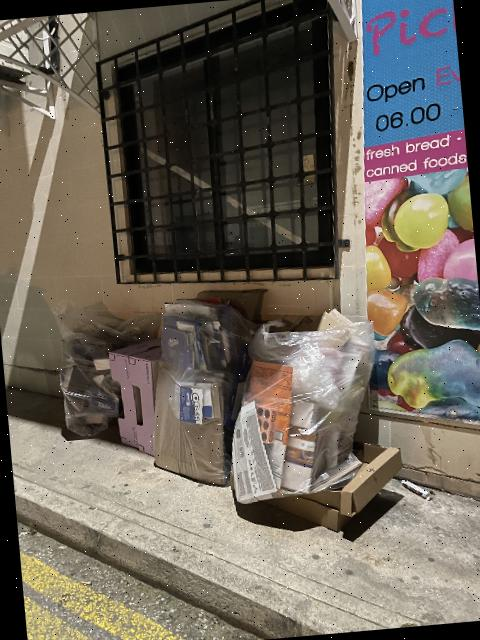Other: (263, 443, 401, 531), (109, 338, 160, 455), (351, 491, 354, 497)
Recyclable -Grey-: (231, 309, 374, 503), (153, 299, 257, 485), (53, 301, 149, 438)
